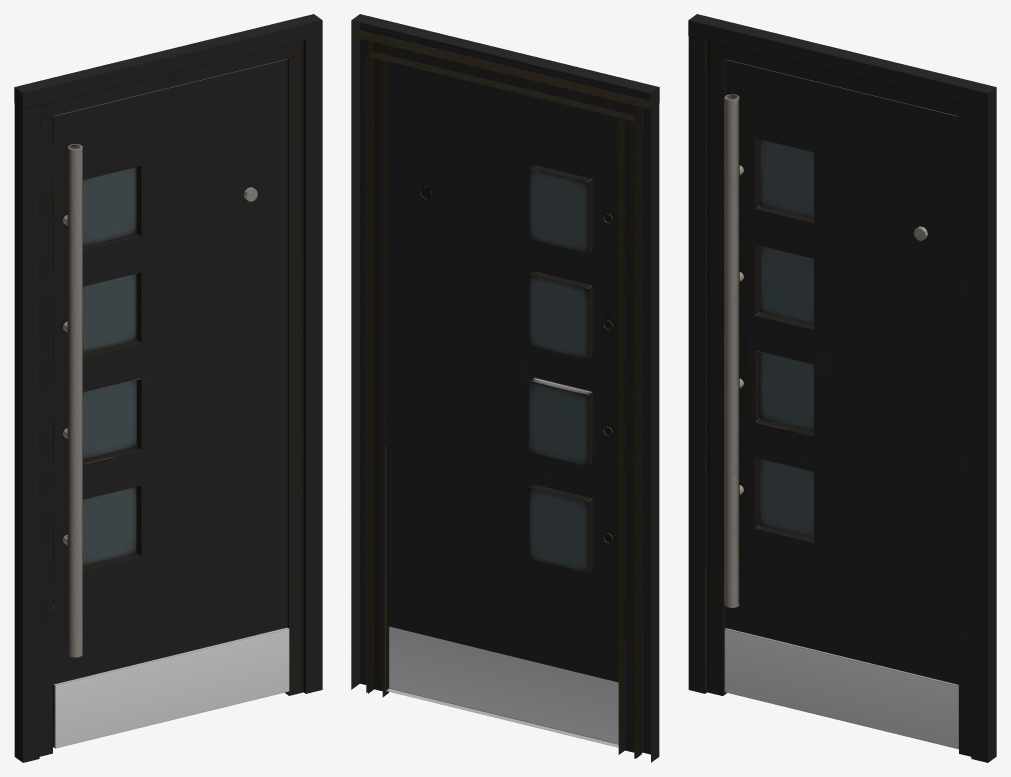
File: d_black.glb
3 views of the same model, side by side, from view 1: azimuth 30°, elevation 25°; view 2: azimuth 150°, elevation 25°; view 3: azimuth 330°, elevation 25° (orthographic).
Visible parts, largest first — view 1: polySurface98_Door_0, polySurface98_standardSurface1_0; view 2: polySurface98_Door_0, polySurface98_standardSurface1_0; view 3: polySurface98_Door_0, polySurface98_standardSurface1_0.
Boxes of the visible parts, <box> form: polySurface98_Door_0: <box>53,59,289,748</box>; polySurface98_standardSurface1_0: <box>14,14,322,762</box>; polySurface98_Door_0: <box>385,61,618,747</box>; polySurface98_standardSurface1_0: <box>351,14,659,762</box>; polySurface98_Door_0: <box>724,59,958,749</box>; polySurface98_standardSurface1_0: <box>688,14,996,762</box>.
Bounding box in the file's own units: 1.06 × 2.27 × 0.1014.
2 materials, 2 textured.
